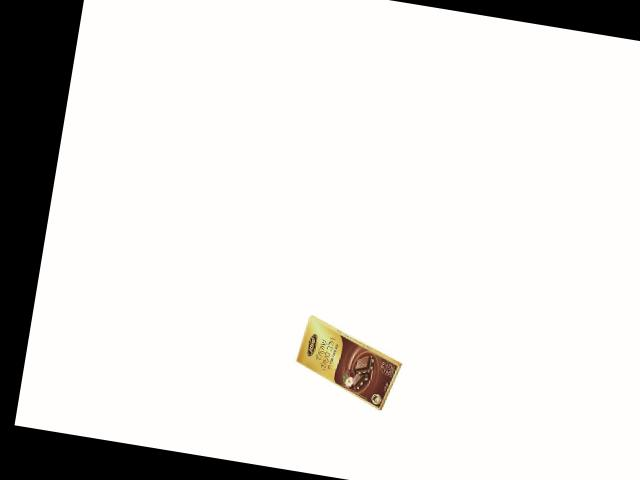chocolate: (289, 310, 417, 414)
